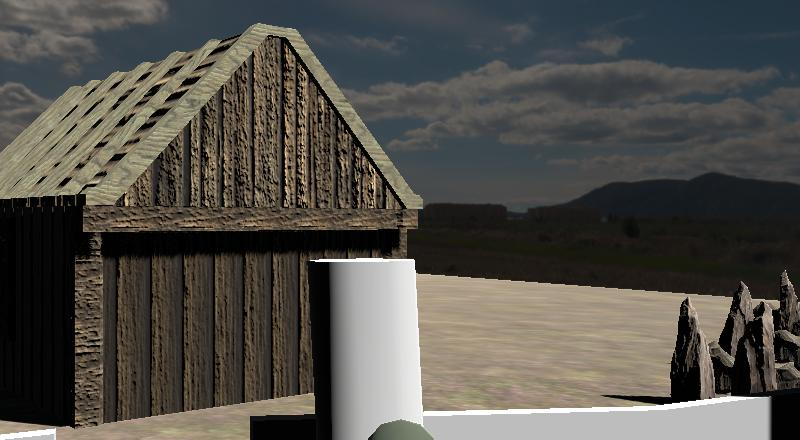House: (0, 21, 425, 434)
